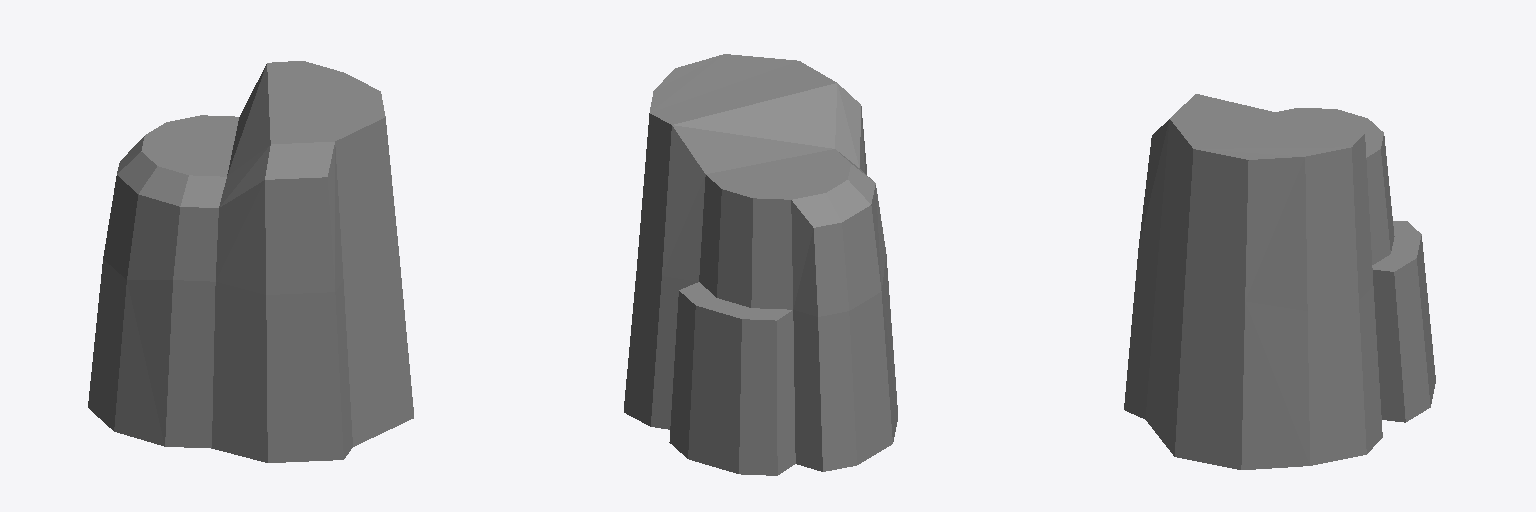
File: rock_cliff_04_lava.obj
The picture shows the model from 3 angles: view 1: azimuth 30°, elevation 25°; view 2: azimuth 150°, elevation 25°; view 3: azimuth 270°, elevation 25°; orthographic projection.
Visible parts, largest first — view 1: rock_cliff_04_lava; view 2: rock_cliff_04_lava; view 3: rock_cliff_04_lava.
Part boxes in pixels (bbox=[...]): rock_cliff_04_lava: bbox=[88, 61, 413, 462]; rock_cliff_04_lava: bbox=[624, 54, 897, 475]; rock_cliff_04_lava: bbox=[1124, 94, 1435, 469].
Bounding box in the file's own units: 698 × 746 × 707.